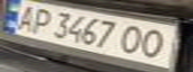3: (45, 10, 72, 40)
4: (63, 12, 87, 44)
6: (78, 16, 100, 47)
7: (96, 18, 121, 51)
A: (9, 2, 42, 33)
O: (136, 26, 175, 61), (115, 22, 148, 55)
P: (24, 6, 57, 35)
